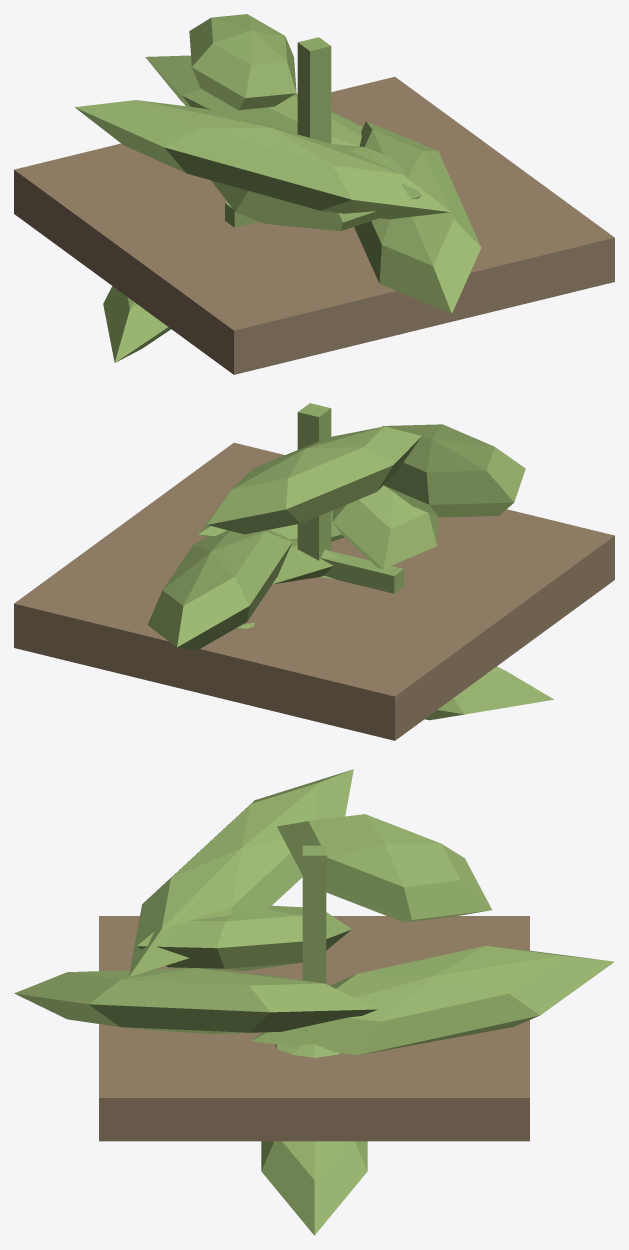
The model's file is cozy-farm-and-homestead-pumpkin-seedling-a8534037__19427.glb.
3 views of the same model, one above another, from view 1: azimuth 30°, elevation 25°; view 2: azimuth 150°, elevation 25°; view 3: azimuth 270°, elevation 25° (orthographic). The views are drawn at different scales.
Visible parts, largest first — view 1: pumpkin-seedling; view 2: pumpkin-seedling; view 3: pumpkin-seedling.
Part boxes in pixels (x1,y1,x2,y2): pumpkin-seedling: [14, 14, 614, 374]; pumpkin-seedling: [14, 403, 614, 740]; pumpkin-seedling: [14, 769, 614, 1235].
Bounding box in the file's own units: 0.5808 × 0.3012 × 0.6277.
